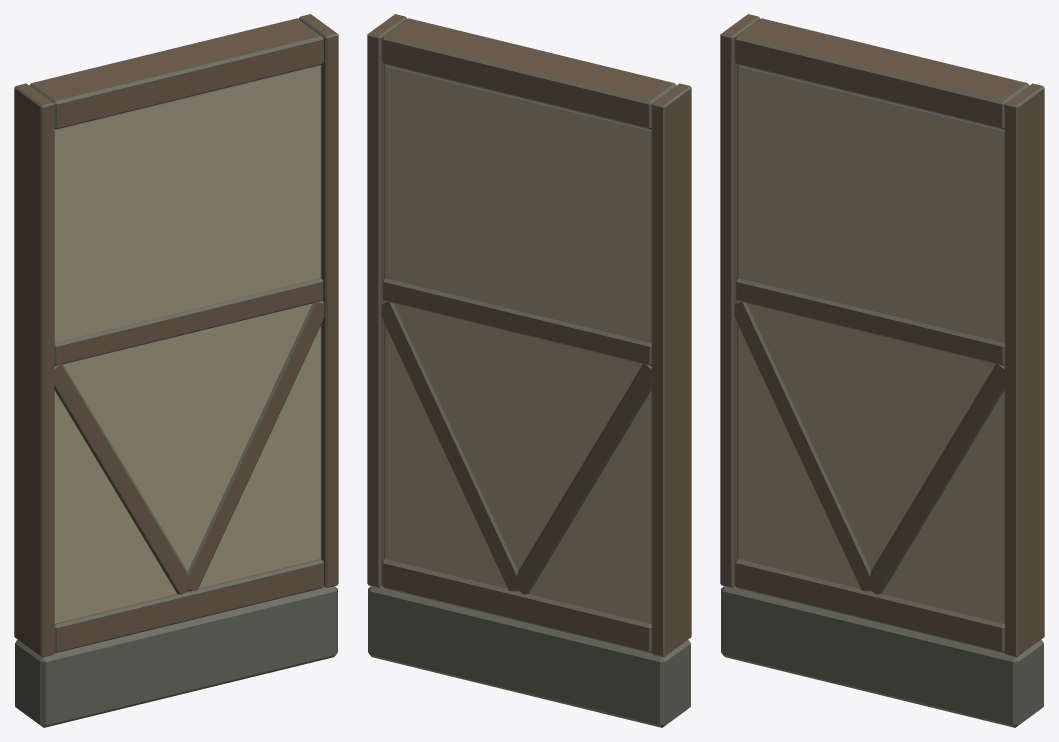
The model's file is wall_timber.glb.
3 views of the same model, side by side, from view 1: azimuth 30°, elevation 25°; view 2: azimuth 150°, elevation 25°; view 3: azimuth 330°, elevation 25° (orthographic).
Parts seen in each view (by area): view 1: Wall_Timber; view 2: Wall_Timber; view 3: Wall_Timber.
Boxes of the visible parts, x1=… form: Wall_Timber: x1=14, y1=14, x2=338, y2=727; Wall_Timber: x1=367, y1=14, x2=691, y2=727; Wall_Timber: x1=720, y1=14, x2=1044, y2=727.
Bounding box in the file's own units: 1.52 × 3.05 × 0.26.
